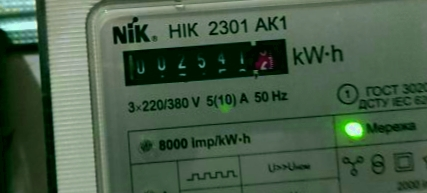0: (132, 54, 146, 76), (152, 51, 166, 73)
1: (233, 43, 246, 67)
2: (172, 48, 188, 71)
4: (213, 45, 225, 67)
5: (192, 47, 207, 71)
6: (256, 58, 268, 71)
screen: (108, 28, 300, 94)
